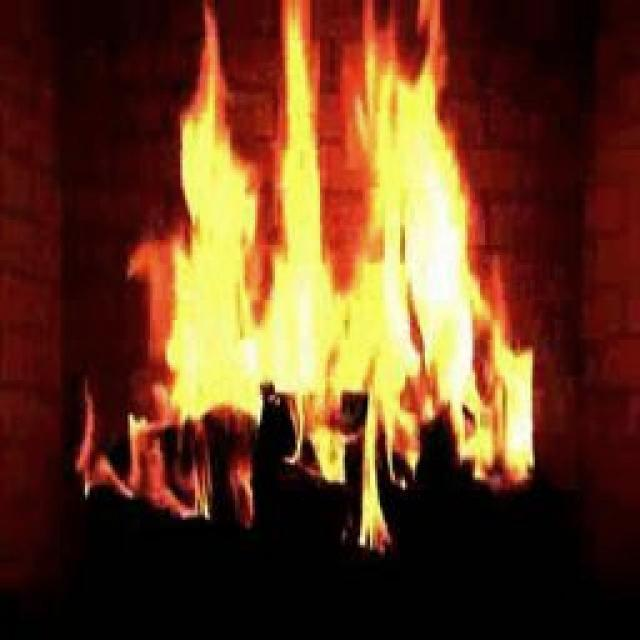Fire: (152, 64, 507, 483)
